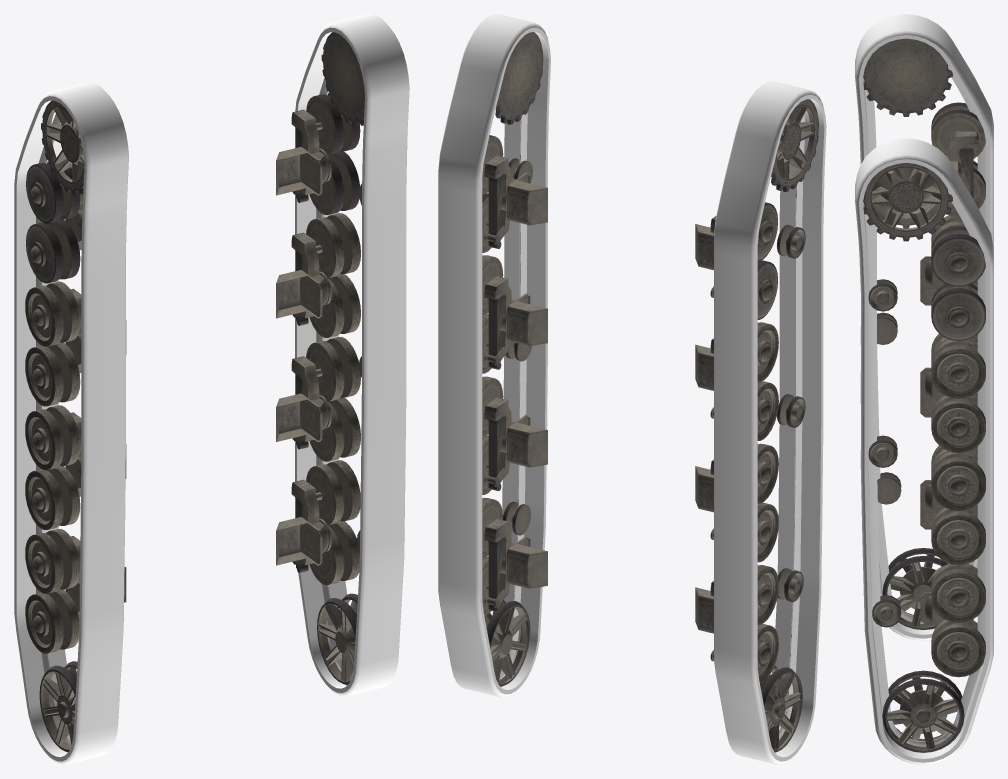
Rendered from Chassis.glb.
3 views of the same model, side by side, from view 1: azimuth 30°, elevation 25°; view 2: azimuth 150°, elevation 25°; view 3: azimuth 270°, elevation 25° (orthographic). The views are drawn at different scales.
Parts seen in each view (by area): view 1: set_0_group_0, set_1_group_0, set_3_group_0, set_2_group_0; view 2: set_0_group_0, set_1_group_0, set_3_group_0, set_2_group_0; view 3: set_3_group_0, set_1_group_0, set_2_group_0, set_0_group_0.
Boxes of the visible parts, x1,y1,x2,y2 form: set_0_group_0: [14, 82, 128, 764]; set_1_group_0: [295, 14, 409, 696]; set_3_group_0: [276, 32, 364, 685]; set_2_group_0: [25, 100, 126, 752]; set_0_group_0: [714, 81, 826, 764]; set_1_group_0: [438, 14, 550, 697]; set_3_group_0: [482, 32, 547, 686]; set_2_group_0: [695, 99, 818, 752]; set_3_group_0: [863, 162, 985, 752]; set_1_group_0: [855, 138, 993, 764]; set_2_group_0: [863, 38, 985, 629]; set_0_group_0: [855, 14, 993, 640].
Bounding box in the file's own units: 2.88 × 5.74 × 1.18.
4 materials, 2 textured.
